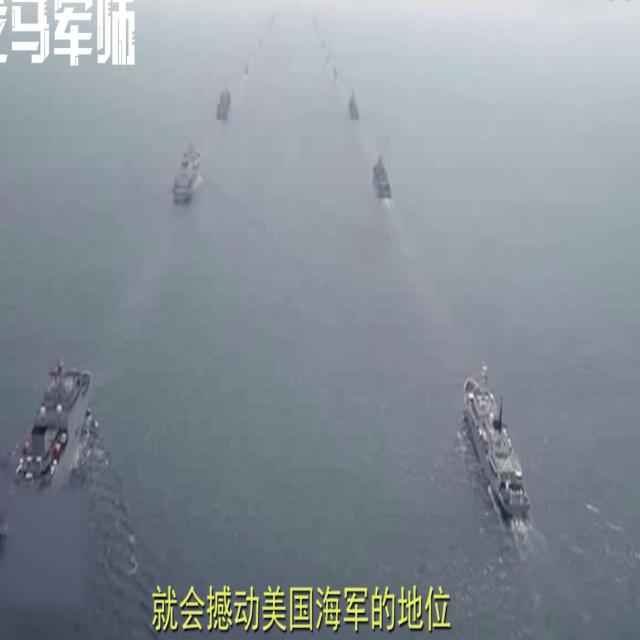navalvessels: (0, 357, 91, 544), (461, 362, 530, 524), (171, 143, 200, 202), (372, 155, 391, 203), (215, 84, 232, 124), (349, 90, 361, 126)
